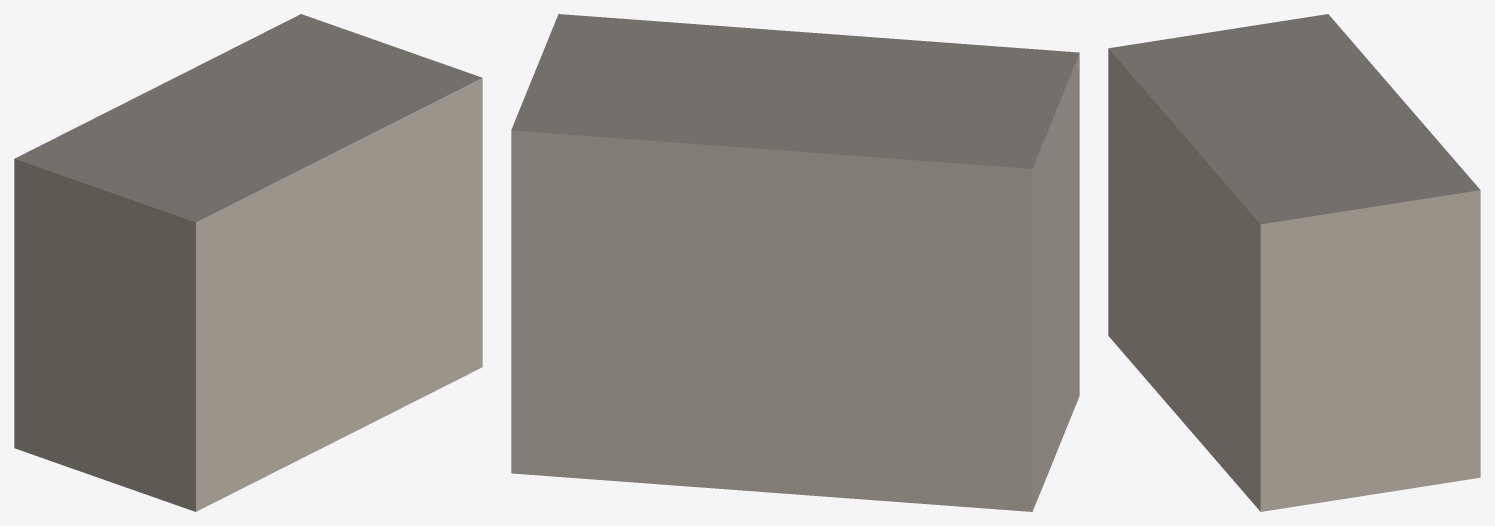
3 renders of one model, left to right at view 1: azimuth 30°, elevation 25°; view 2: azimuth 150°, elevation 25°; view 3: azimuth 270°, elevation 25°, orthographic. The views are drawn at different scales.
Parts seen in each view (by area): view 1: HP-w389702027; view 2: HP-w389702027; view 3: HP-w389702027.
Boxes of the visible parts, x1,y1,x2,y2 form: HP-w389702027: (14,14,482,511); HP-w389702027: (511,14,1079,511); HP-w389702027: (1108,14,1480,511).
Size of the model in its own units: 28.24 by 18 by 21.11.
